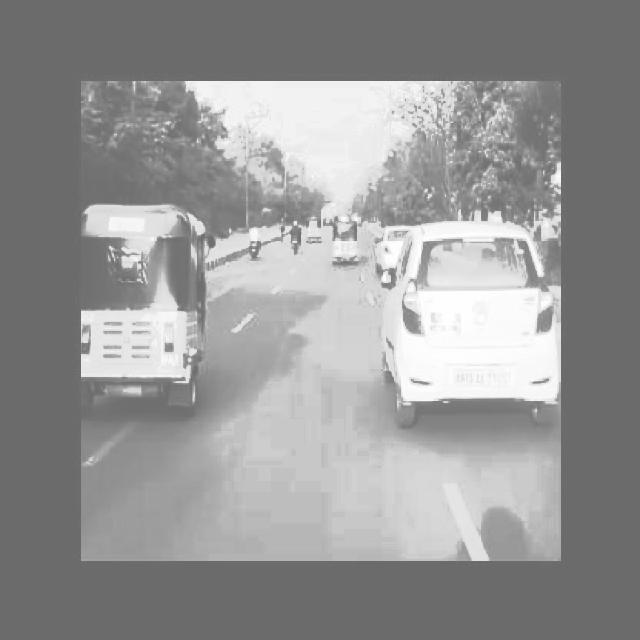Car: (386, 224, 562, 428)
